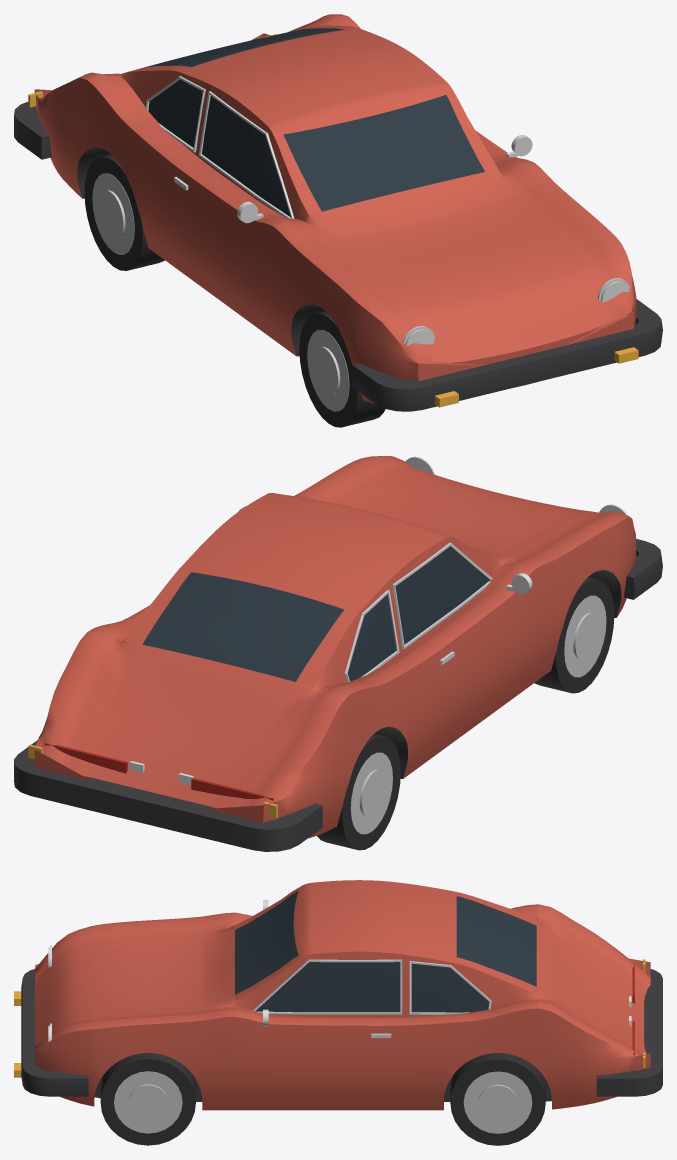
File: porsche911.glb
3 renders of one model, top to bottom at view 1: azimuth 30°, elevation 25°; view 2: azimuth 150°, elevation 25°; view 3: azimuth 270°, elevation 25°, orthographic. The views are drawn at different scales.
Visible parts, largest first — view 1: paint, glass, trim, wheel_fr, wheel_rr, mirrors, headlights; view 2: paint, glass, trim, wheel_rr, wheel_fr, taillights; view 3: paint, glass, trim, wheel_rl, wheel_fl.
Part boxes in pixels (bbox=[...]): paint: bbox=[34, 14, 636, 403]; glass: bbox=[144, 28, 484, 217]; trim: bbox=[14, 76, 662, 411]; wheel_fr: bbox=[299, 311, 385, 427]; wheel_rr: bbox=[84, 154, 164, 270]; mirrors: bbox=[237, 135, 532, 223]; headlights: bbox=[406, 281, 629, 346]; paint: bbox=[34, 456, 636, 838]; glass: bbox=[142, 546, 489, 681]; trim: bbox=[14, 456, 662, 851]; wheel_rr: bbox=[317, 734, 400, 850]; wheel_fr: bbox=[534, 577, 614, 693]; taillights: bbox=[44, 742, 273, 800]; paint: bbox=[35, 880, 650, 1110]; glass: bbox=[235, 890, 536, 1012]; trim: bbox=[21, 945, 662, 1096]; wheel_rl: bbox=[450, 1053, 545, 1145]; wheel_fl: bbox=[100, 1053, 195, 1145].
Size of the model in its own units: 1.79 by 1.31 by 4.22.
